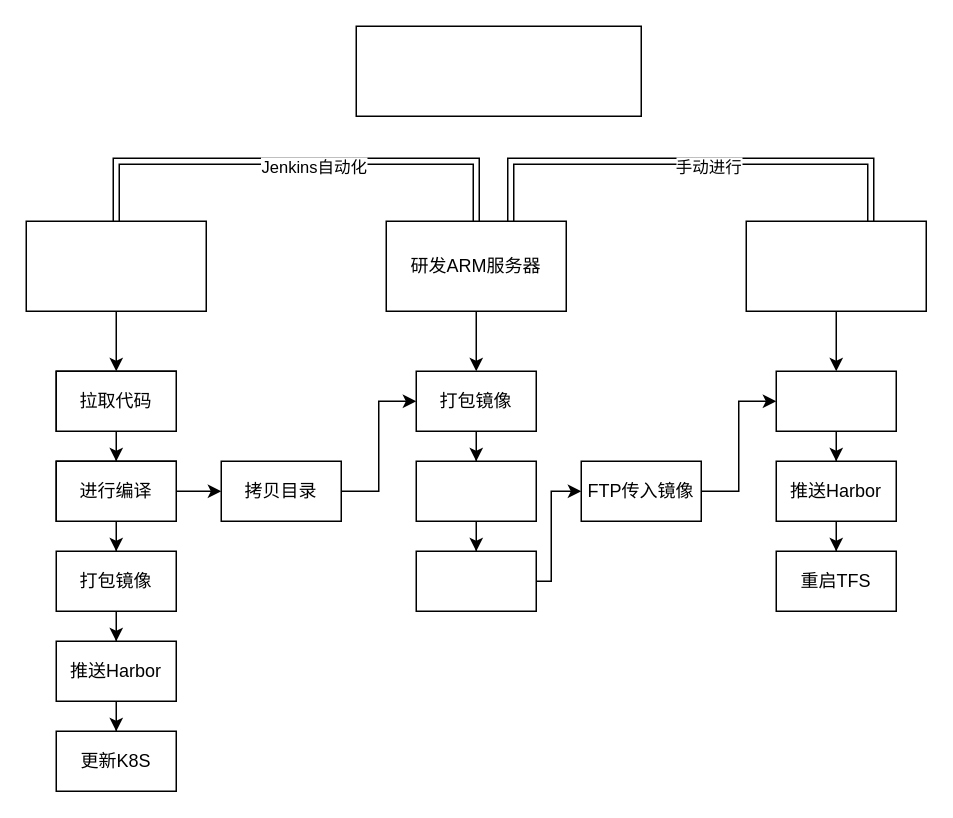
This 953x818 diagram has some shape labels left out. Each missing label, with the centre of its shape:
下载本地: point 475,580
云专区ARM环境部署流程: point 498,70
云专区服务器: point 835,265
保存镜像: point 475,490
导入镜像: point 835,400
研发X86服务器: point 115,265
